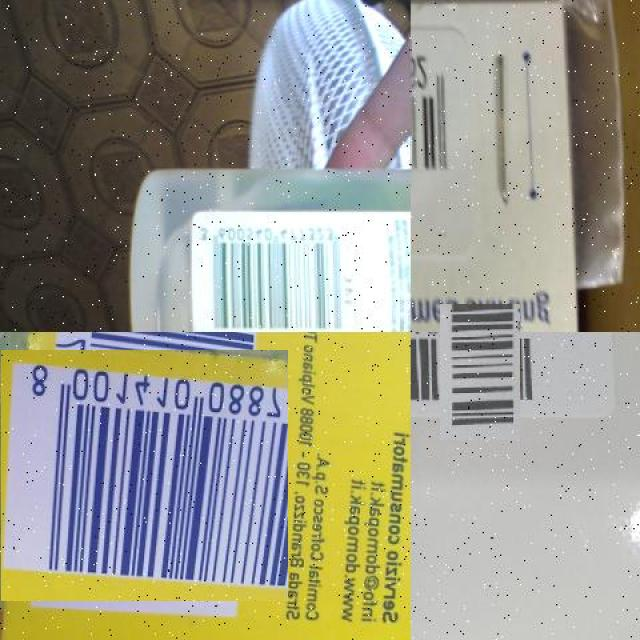Barcode: (10, 341, 279, 610), (194, 219, 358, 332), (425, 318, 534, 426), (410, 37, 462, 187)
